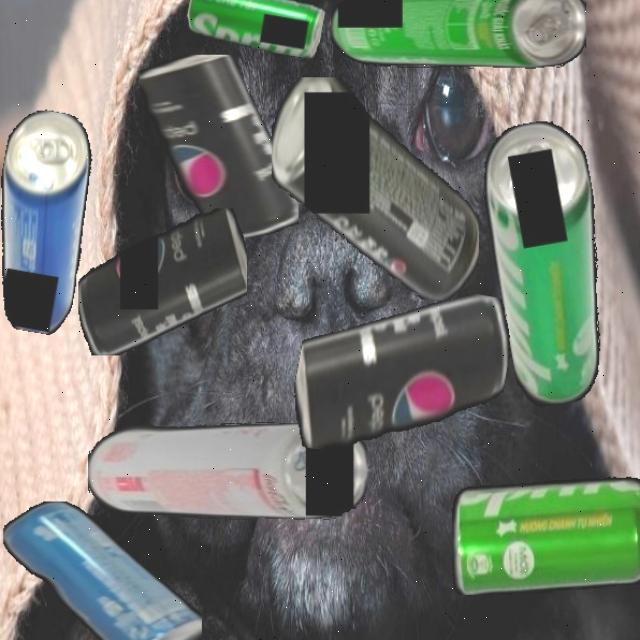debris: (284, 266, 518, 479), (271, 76, 479, 300), (474, 115, 627, 410), (138, 55, 298, 238), (3, 500, 202, 640), (87, 422, 367, 520), (77, 208, 247, 356), (0, 105, 104, 337), (451, 476, 640, 595), (330, 0, 586, 69), (184, 0, 326, 60)
